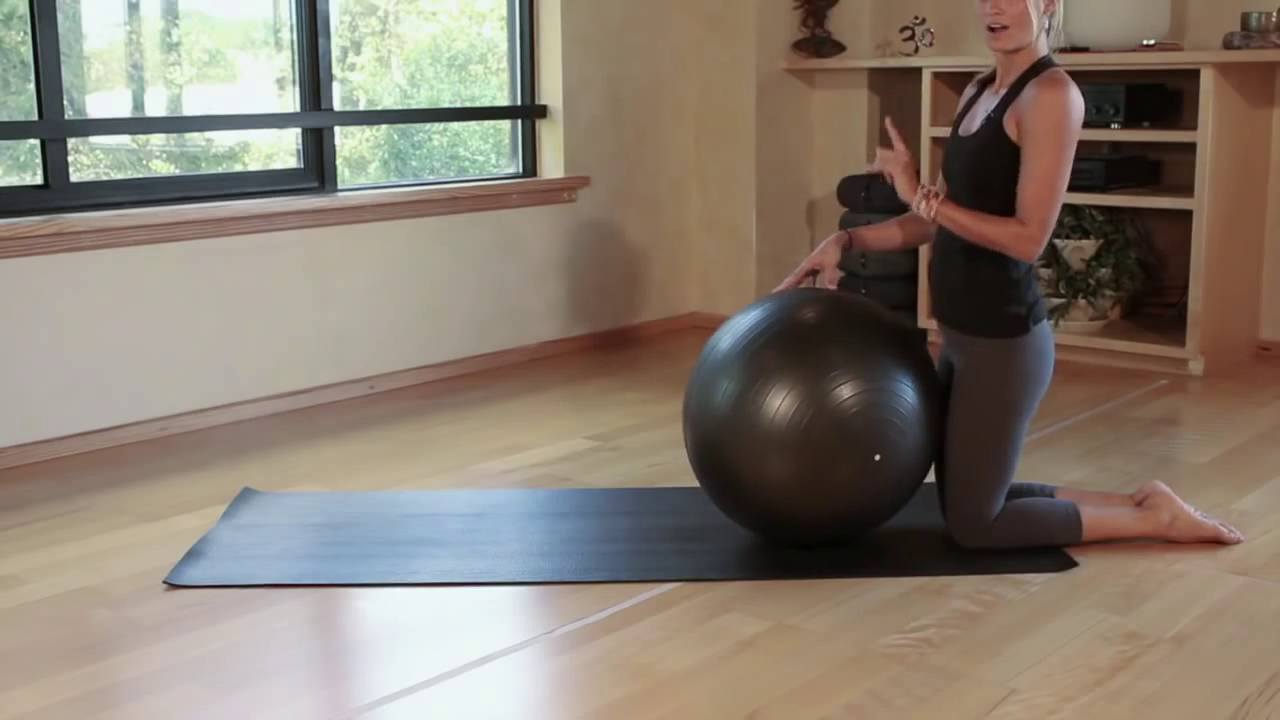yogaball: (679, 280, 948, 547)
